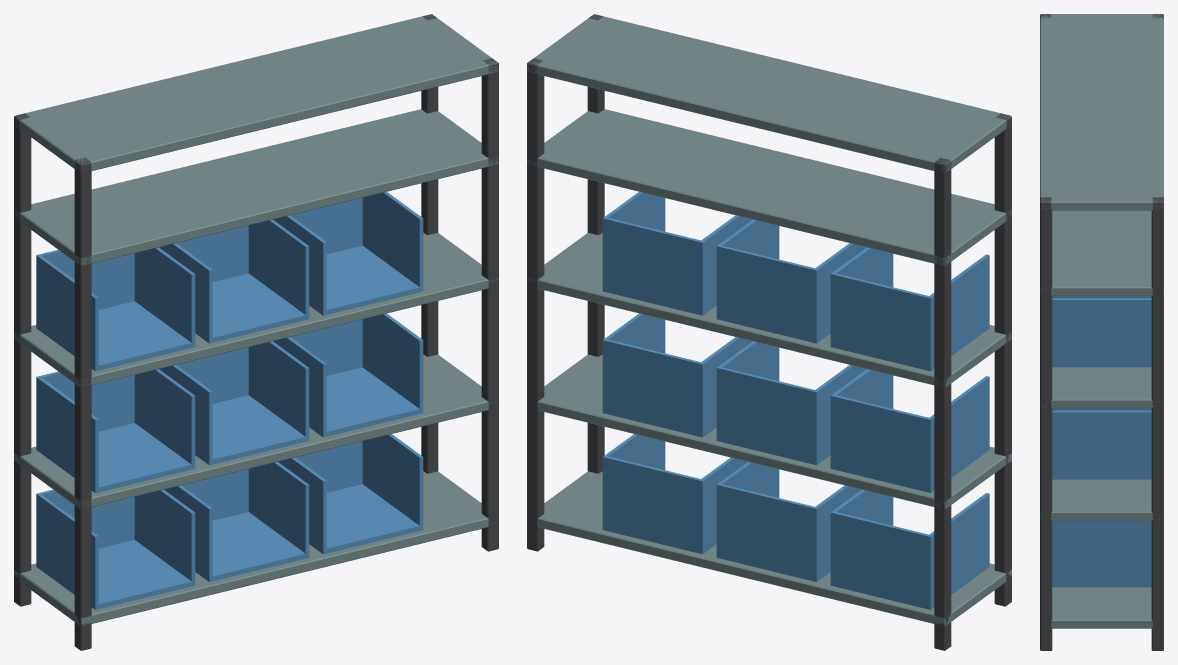
The model's file is shelf_unit_bins.glb.
3 renders of one model, left to right at view 1: azimuth 30°, elevation 25°; view 2: azimuth 150°, elevation 25°; view 3: azimuth 270°, elevation 25°, orthographic. The views are drawn at different scales.
Visible parts, largest first — view 1: shelf_unit_bins; view 2: shelf_unit_bins; view 3: shelf_unit_bins.
Boxes of the visible parts, bbox=[...] form: shelf_unit_bins: bbox=[14, 14, 498, 650]; shelf_unit_bins: bbox=[527, 14, 1011, 650]; shelf_unit_bins: bbox=[1040, 14, 1163, 650].
Size of the model in its own units: 1.8 by 2 by 0.5.
